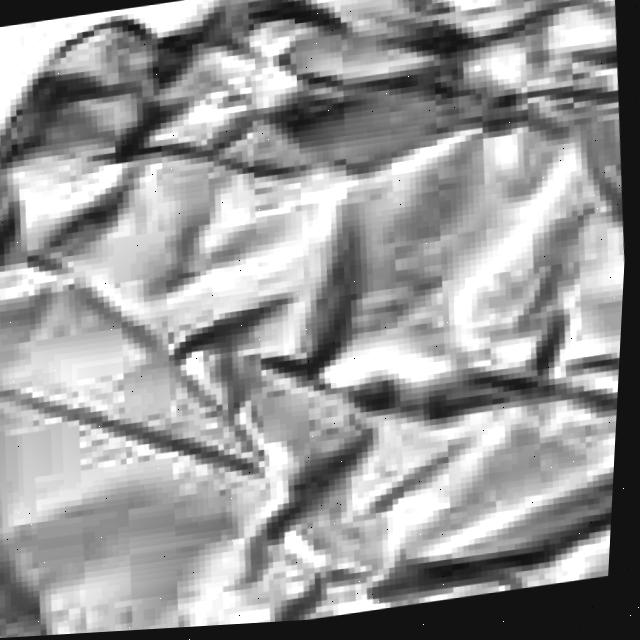paper: (0, 0, 628, 639)
